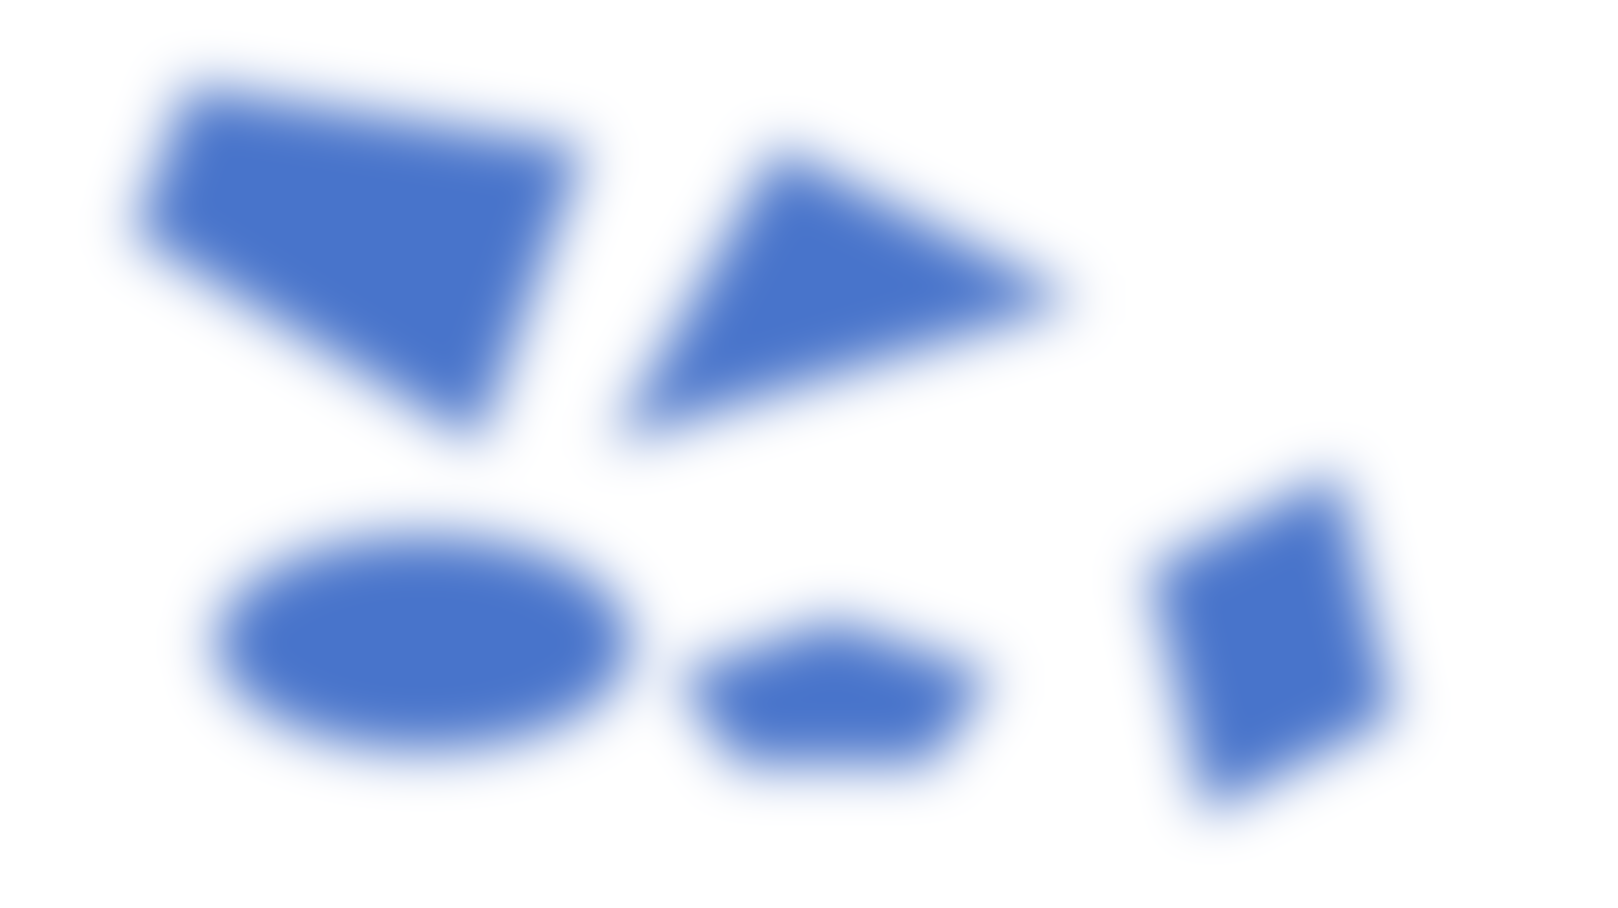circle: (211, 500, 643, 775)
parallelogram: (1105, 446, 1435, 825)
pentagon: (667, 600, 1027, 815)
trapezium: (108, 59, 598, 453)
triangle: (590, 112, 1105, 463)
